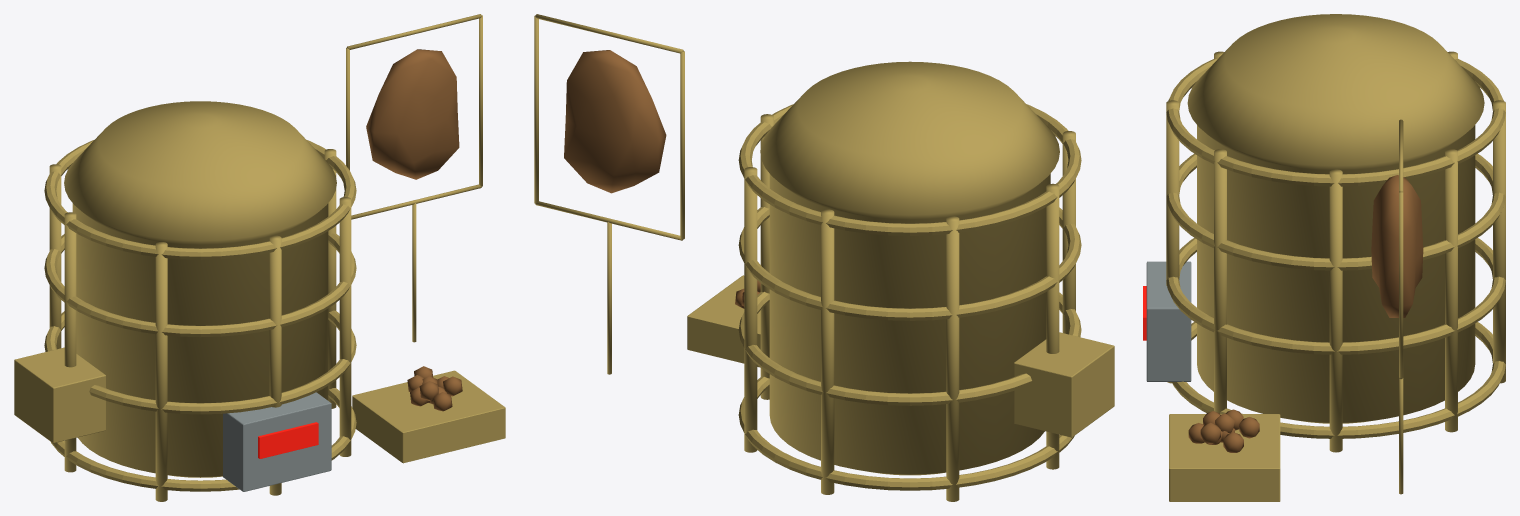
The picture shows the model from 3 angles, left to right: view 1: azimuth 30°, elevation 25°; view 2: azimuth 150°, elevation 25°; view 3: azimuth 270°, elevation 25°; orthographic projection. The views are drawn at different scales.
Parts seen in each view (by area): view 1: TI083 / rounded gold ore canister, TI083 / separate mineral specimen, TI083 / small sample tray, TI083 / front terminal, TI083 / side cargo block, TI083 / canister cage hoop.003, TI083 / canister cage hoop.002, TI083 / canister cage hoop.001, TI083 / canister protective upright.005, TI083 / canister protective upright.007, TI083 / canister cage hoop, TI083 / canister protective upright.006 (+8 smaller); view 2: TI083 / rounded gold ore canister, TI083 / separate mineral specimen, TI083 / side cargo block, TI083 / canister cage hoop.003, TI083 / canister cage hoop.002, TI083 / canister cage hoop, TI083 / canister cage hoop.001, TI083 / canister protective upright.003, TI083 / canister protective upright.002, TI083 / small sample tray, TI083 / canister protective upright.001, TI083 / canister protective upright.004 (+7 smaller); view 3: TI083 / rounded gold ore canister, TI083 / small sample tray, TI083 / canister cage hoop.003, TI083 / separate mineral specimen, TI083 / canister cage hoop.001, TI083 / front terminal, TI083 / canister cage hoop.002, TI083 / canister cage hoop, TI083 / canister protective upright, TI083 / canister protective upright.001, TI083 / canister protective upright.007, TI083 / canister protective upright.002 (+3 smaller).
Boxes of the visible parts, x1,y1,x2,y2 form: TI083 / rounded gold ore canister: [64, 101, 336, 477]; TI083 / separate mineral specimen: [366, 49, 459, 179]; TI083 / small sample tray: [352, 370, 505, 463]; TI083 / front terminal: [223, 392, 331, 491]; TI083 / side cargo block: [14, 347, 105, 443]; TI083 / canister cage hoop.003: [44, 140, 356, 259]; TI083 / canister cage hoop.002: [44, 233, 356, 337]; TI083 / canister cage hoop.001: [44, 310, 356, 414]; TI083 / canister protective upright.005: [155, 242, 167, 501]; TI083 / canister protective upright.007: [339, 197, 351, 456]; TI083 / canister cage hoop: [51, 388, 356, 491]; TI083 / canister protective upright.006: [269, 235, 281, 495]; TI083 / rounded gold ore canister: [760, 61, 1059, 475]; TI083 / separate mineral specimen: [564, 50, 666, 193]; TI083 / side cargo block: [1014, 332, 1114, 437]; TI083 / canister cage hoop.003: [738, 104, 1081, 235]; TI083 / canister cage hoop.002: [738, 207, 1081, 320]; TI083 / canister cage hoop: [738, 376, 1074, 490]; TI083 / canister cage hoop.001: [738, 291, 1081, 405]; TI083 / canister protective upright.003: [946, 216, 959, 501]; TI083 / canister protective upright.002: [821, 209, 834, 494]; TI083 / small sample tray: [687, 275, 760, 367]; TI083 / canister protective upright.001: [744, 167, 757, 452]; TI083 / canister protective upright.004: [1046, 183, 1059, 469]; TI083 / rounded gold ore canister: [1187, 14, 1484, 423]; TI083 / small sample tray: [1169, 414, 1280, 501]; TI083 / canister cage hoop.003: [1166, 59, 1505, 186]; TI083 / separate mineral specimen: [1371, 175, 1423, 317]; TI083 / canister cage hoop.001: [1166, 238, 1505, 354]; TI083 / front terminal: [1146, 261, 1191, 381]; TI083 / canister cage hoop.002: [1166, 153, 1505, 270]; TI083 / canister cage hoop: [1172, 322, 1505, 438]; TI083 / canister protective upright: [1329, 169, 1342, 452]; TI083 / canister protective upright.001: [1445, 149, 1457, 432]; TI083 / canister protective upright.007: [1214, 149, 1226, 412]; TI083 / canister protective upright.002: [1493, 100, 1505, 383].
Bounding box in the file's own units: 3.24 × 2.11 × 1.95.
